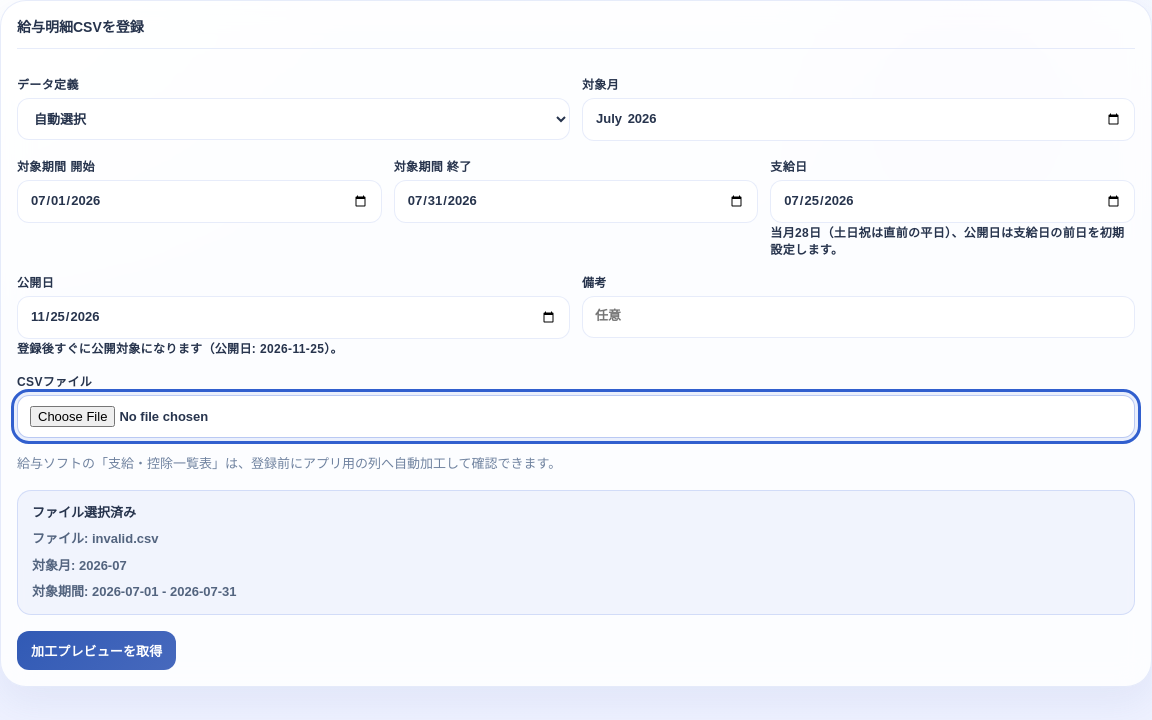
Test: PayrollRegisterPanel › CSVの照合エラーがある場合は正常な行も登録できない
The width and height of the screenshot is (1152, 720).
Earlier steps of the test are not shown.
Step 1. Click the button "加工プレビューを取得" → coordinates (97, 650), box [17,631,176,670]
(page scrolled)
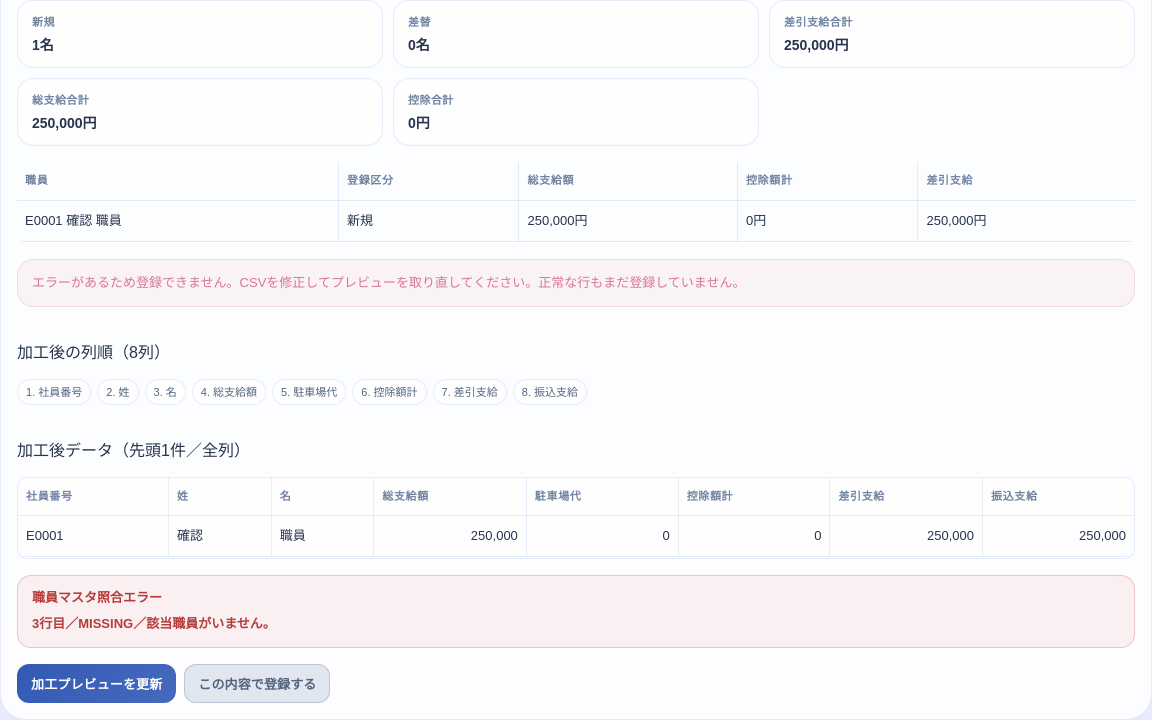
expect the message shows "正常な行もまだ登録していません": met, box [32,275,745,290]
expect the button "この内容で登録する" is disabled: met, box [184,664,330,702]
